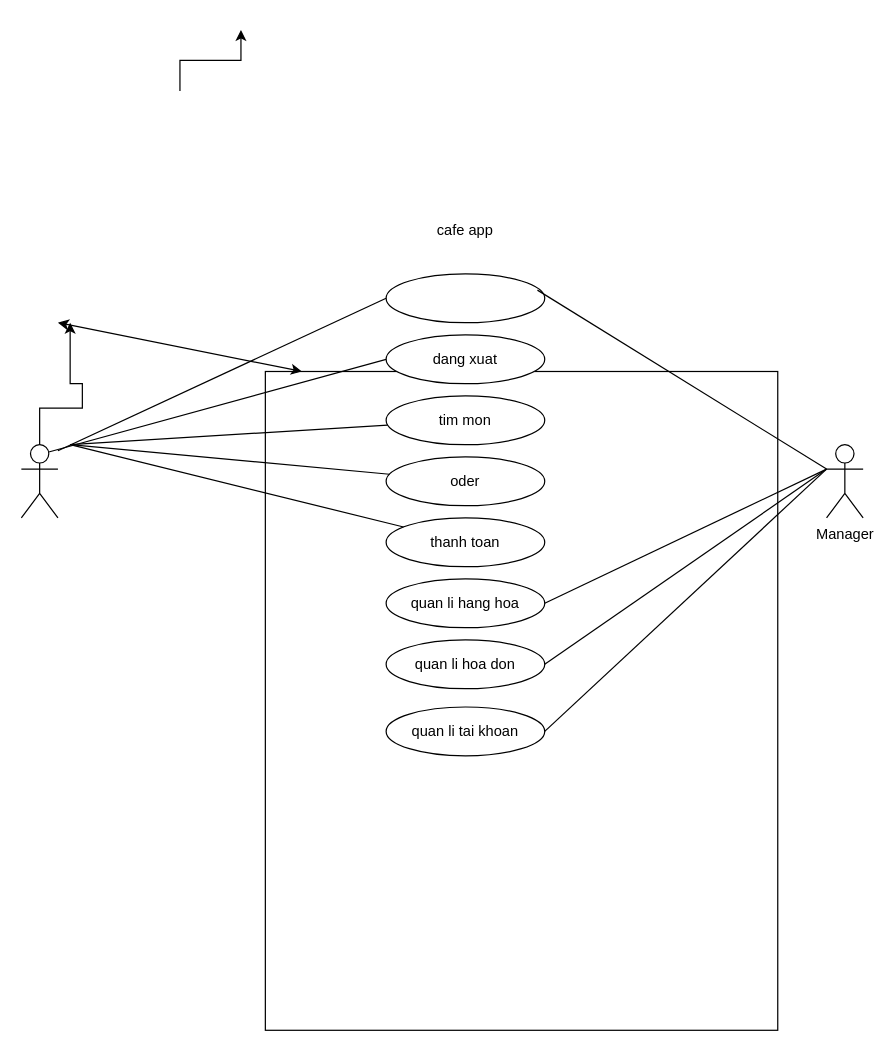
The diagram is 894 pixels wide and 1052 high, and some of its shapes have lost their labels. The box of each missing label's shape, as (x1, y1, x2, y2) in pixels:
dang nhap: (385, 273, 545, 323)
Staff: (20, 443, 58, 518)
